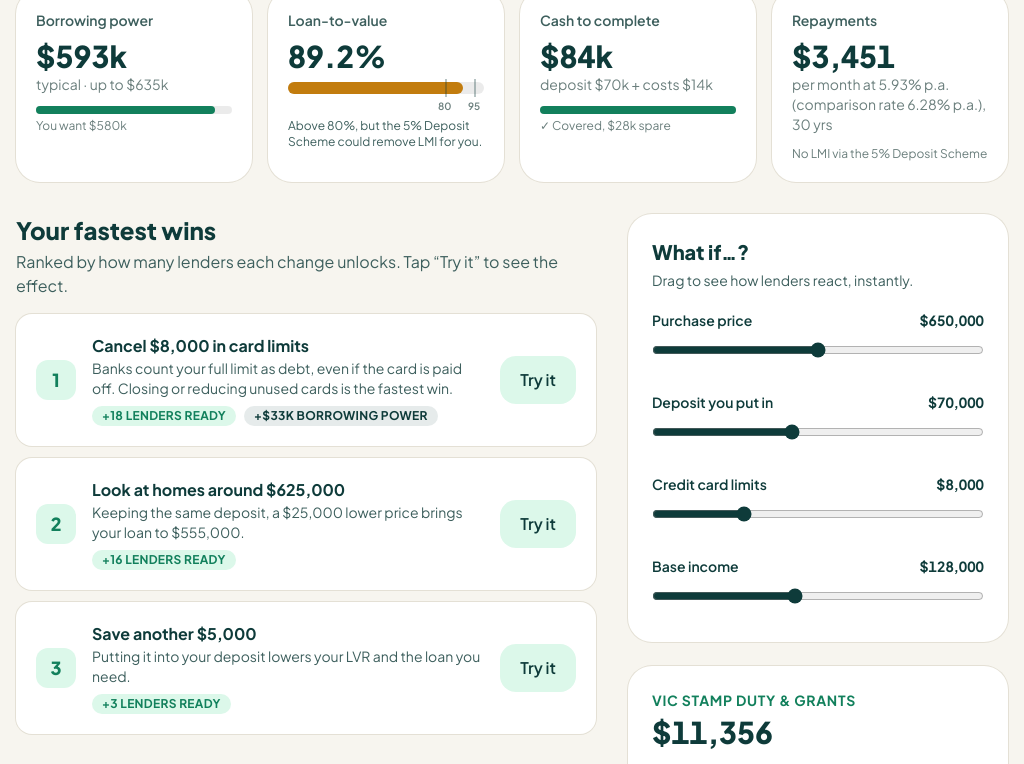
it: Your report › tries a fast win and scrolls to the top
(page scrolled)
Check: the heading "Your fastest wins" is shown, box x1=16 y1=215 x2=216 y2=245
Click the button "Try it" below "Cancel $8,000 in card limits": (538, 380) x1=500 y1=356 x2=576 y2=404
(page scrolled)
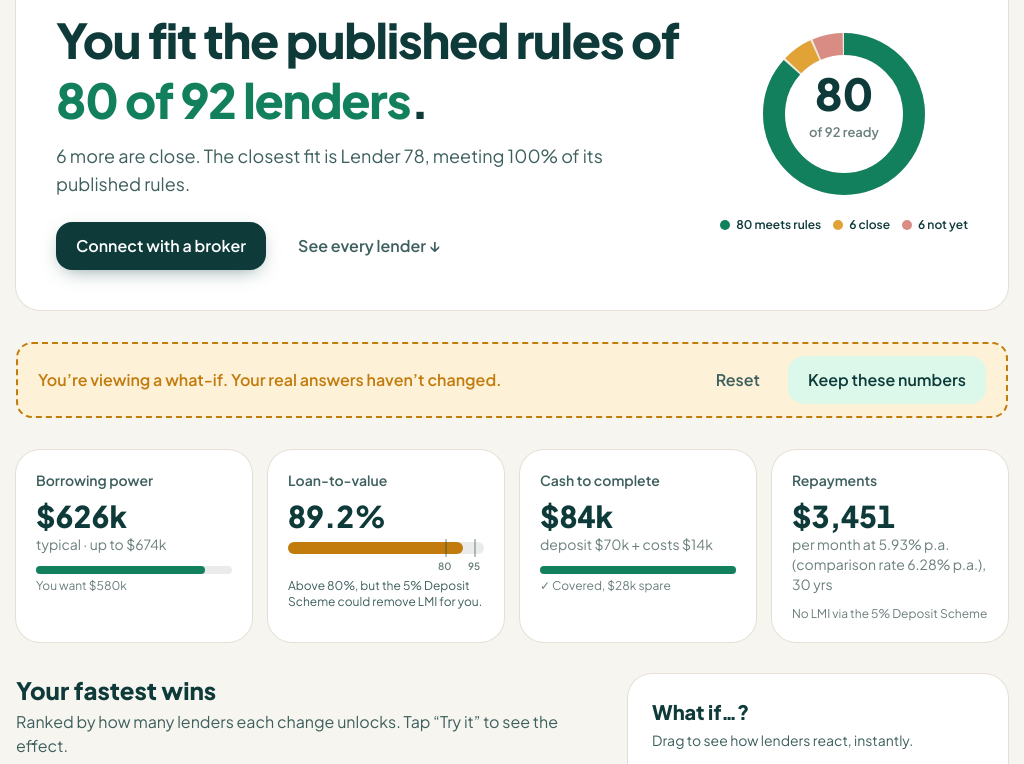
Check: the text "You’re viewing a what-if. Your real answers haven’t changed." is shown, box x1=38 y1=368 x2=502 y2=392
